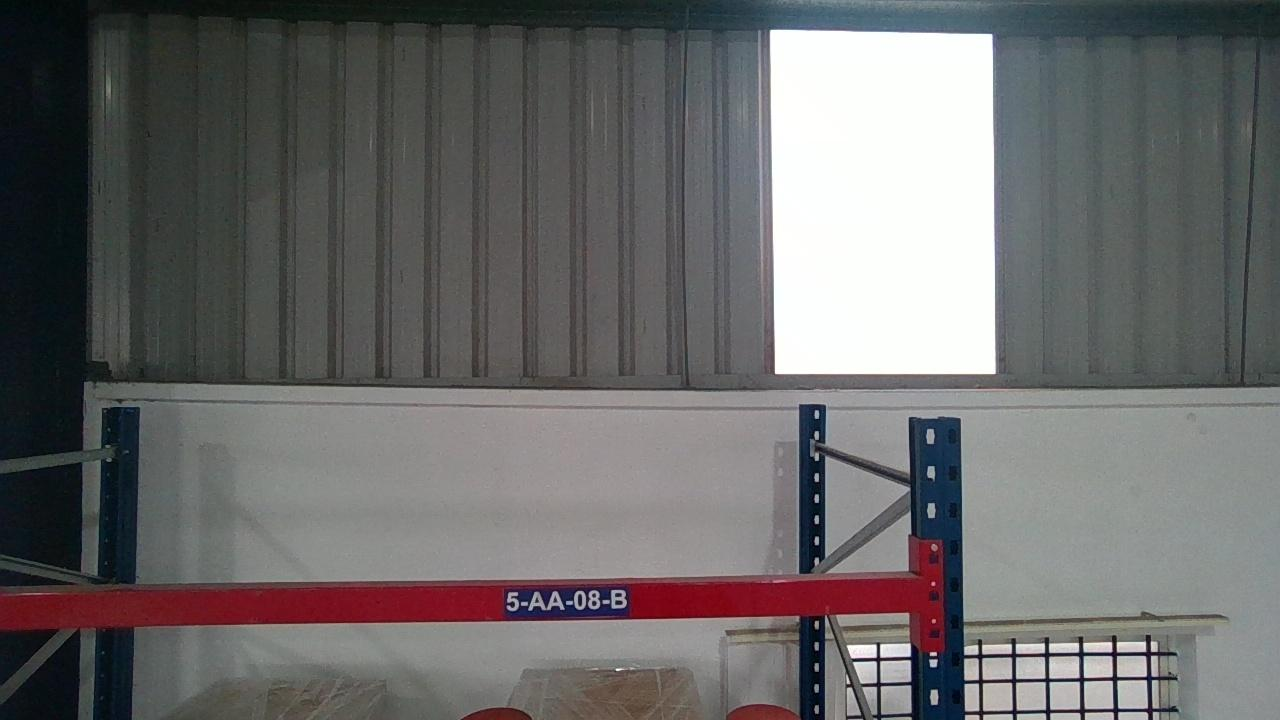h_rack: (3, 579, 924, 626)
